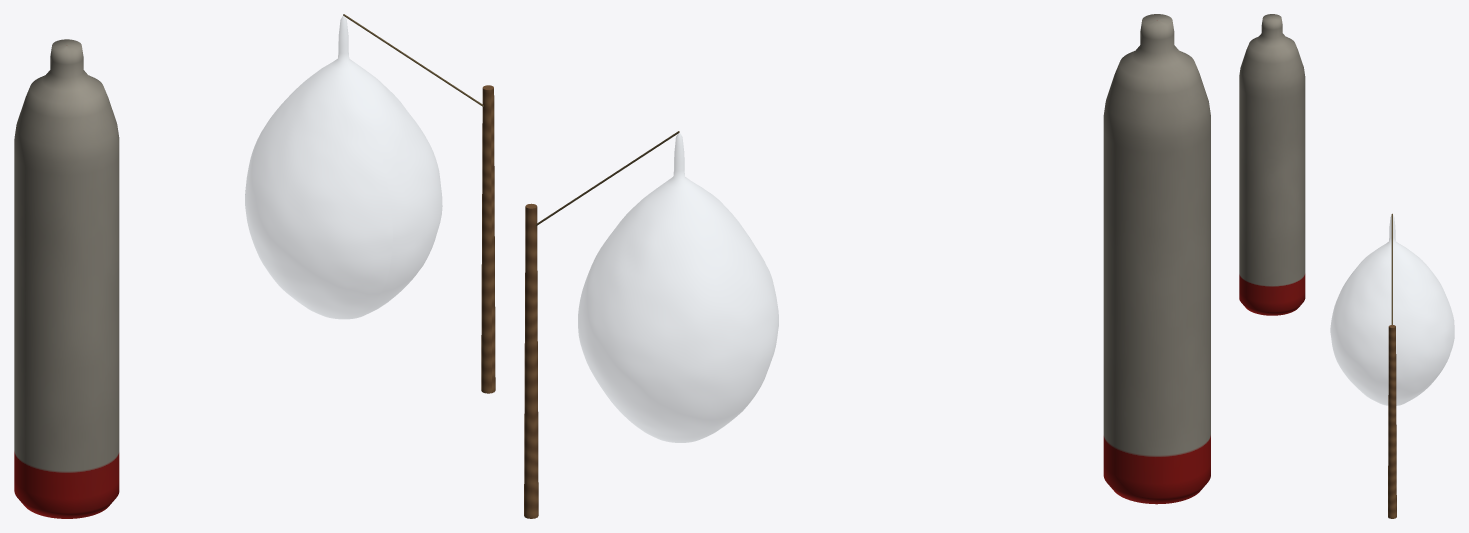
File: acetylene_L2.glb
3 views of the same model, side by side, from view 1: azimuth 30°, elevation 25°; view 2: azimuth 150°, elevation 25°; view 3: azimuth 270°, elevation 25° (orthographic). The views are drawn at different scales.
Visible parts, largest first — view 1: cylinder, bag, stake; view 2: cylinder, bag, stake; view 3: cylinder, bag, stake.
Part boxes in pixels (x1=…): cylinder: x1=14, y1=39, x2=119, y2=518; bag: x1=245, y1=16, x2=442, y2=318; stake: x1=481, y1=85, x2=495, y2=393; cylinder: x1=1103, y1=14, x2=1210, y2=504; bag: x1=578, y1=133, x2=778, y2=442; stake: x1=524, y1=203, x2=538, y2=518; cylinder: x1=1239, y1=14, x2=1305, y2=315; bag: x1=1330, y1=215, x2=1454, y2=405; stake: x1=1388, y1=325, x2=1396, y2=518.
Bounding box in the file's own units: 1.38 × 1.25 × 0.7176.
4 materials, 2 textured.
